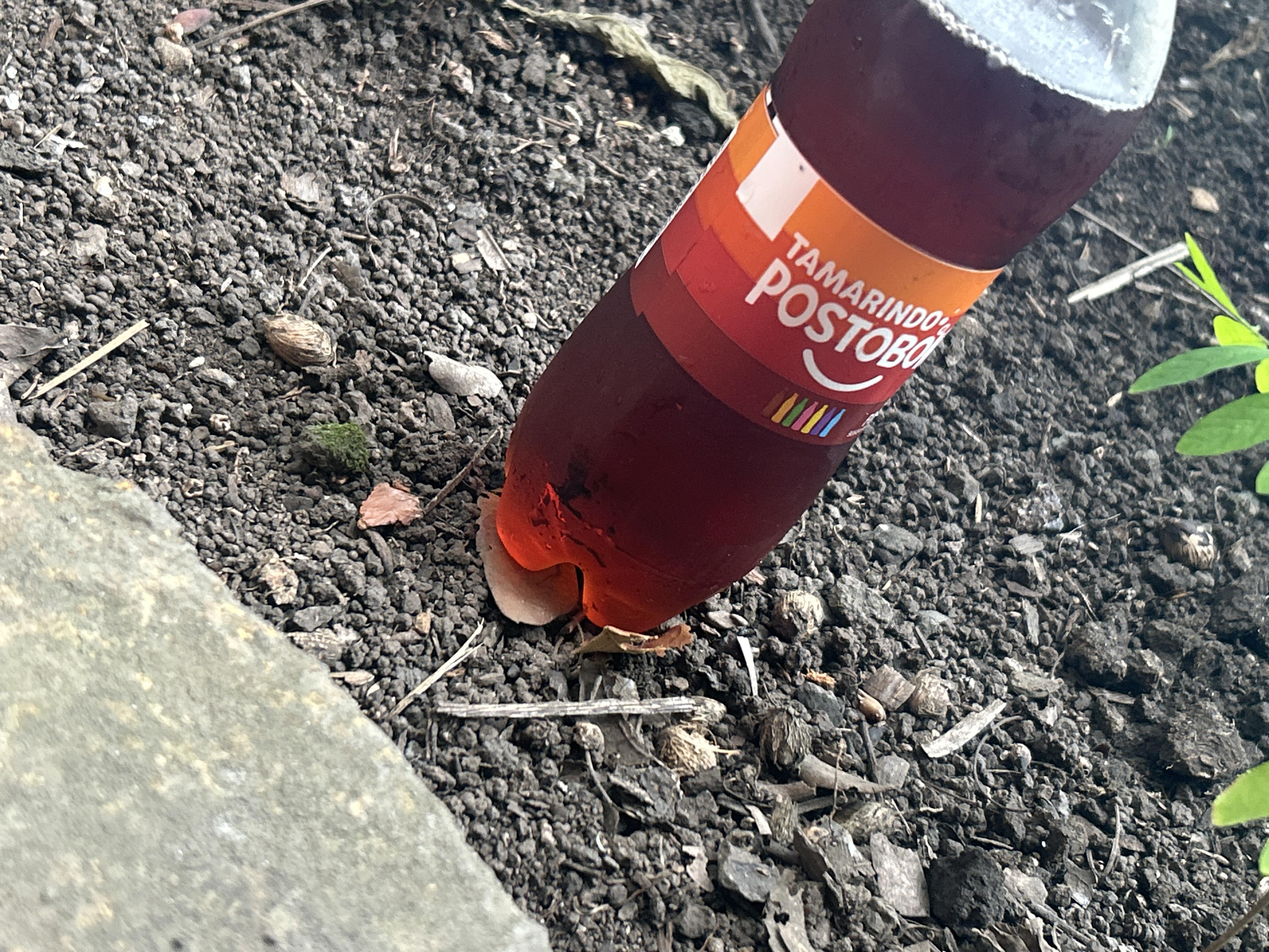tamarindo: (498, 0, 1144, 626)
